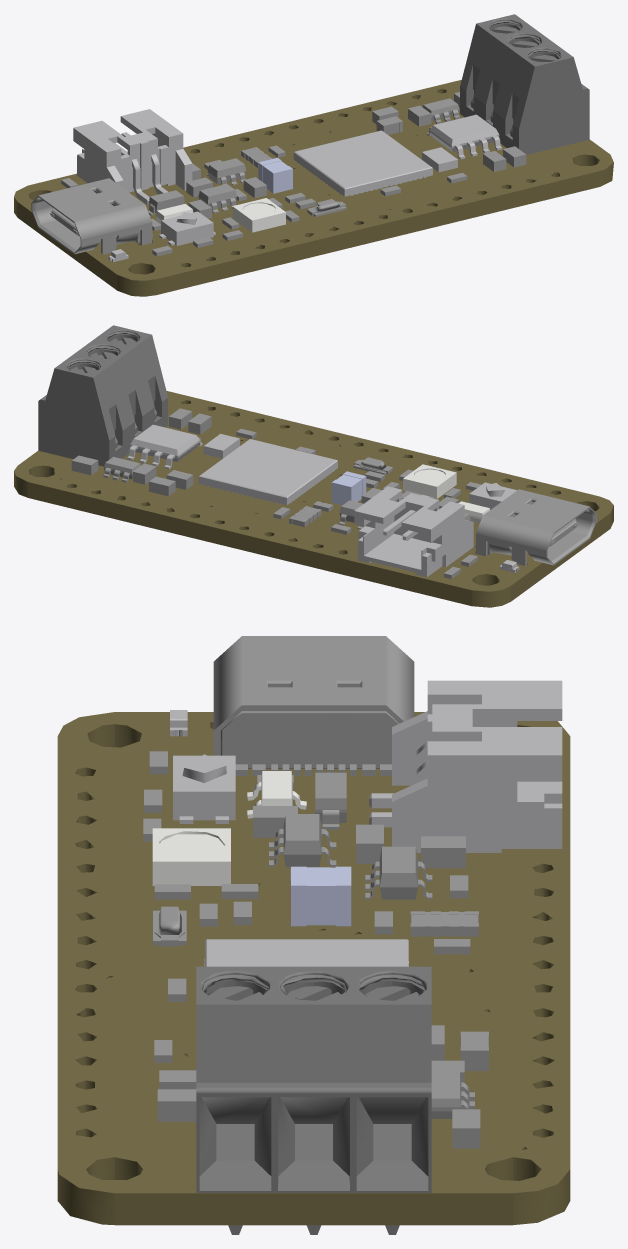
File: ada-4759.glb
3 renders of one model, top to bottom at view 1: azimuth 30°, elevation 25°; view 2: azimuth 150°, elevation 25°; view 3: azimuth 270°, elevation 25°, orthographic. The views are drawn at different scales.
Parts seen in each view (by area): view 1: 0.16666666666666666_0.16666666666666666_0.08333333333333333_, 0.5833333333333334_0.5833333333333334_0.5833333333333334_0.8, 0.3333333333333333_0.3333333333333333_0.3333333333333333_0, 0.25_0.25_0.25_0, 0.9166666666666666_0.9166666666666666_0.9166666666666666_0.8, 0.5833333333333334_0.6666666666666666_0.8333333333333334_0; view 2: 0.16666666666666666_0.16666666666666666_0.08333333333333333_, 0.5833333333333334_0.5833333333333334_0.5833333333333334_0.8, 0.25_0.25_0.25_0, 0.3333333333333333_0.3333333333333333_0.3333333333333333_0, 0.9166666666666666_0.9166666666666666_0.9166666666666666_0.8, 0.5833333333333334_0.6666666666666666_0.8333333333333334_0; view 3: 0.16666666666666666_0.16666666666666666_0.08333333333333333_, 0.25_0.25_0.25_0, 0.3333333333333333_0.3333333333333333_0.3333333333333333_0, 0.5833333333333334_0.5833333333333334_0.5833333333333334_0.8, 0.9166666666666666_0.9166666666666666_0.9166666666666666_0.8, 0.5833333333333334_0.6666666666666666_0.8333333333333334_0.
Boxes of the visible parts, x1=… form: 0.16666666666666666_0.16666666666666666_0.08333333333333333_: x1=14, y1=80, x2=613, y2=296; 0.5833333333333334_0.5833333333333334_0.5833333333333334_0.8: x1=52, y1=109, x2=502, y2=262; 0.3333333333333333_0.3333333333333333_0.3333333333333333_0: x1=31, y1=92, x2=526, y2=256; 0.25_0.25_0.25_0: x1=460, y1=14, x2=589, y2=154; 0.9166666666666666_0.9166666666666666_0.9166666666666666_0.8: x1=156, y1=198, x2=285, y2=232; 0.5833333333333334_0.6666666666666666_0.8333333333333334_0: x1=258, y1=157, x2=292, y2=193; 0.16666666666666666_0.16666666666666666_0.08333333333333333_: x1=14, y1=391, x2=613, y2=607; 0.5833333333333334_0.5833333333333334_0.5833333333333334_0.8: x1=127, y1=424, x2=575, y2=577; 0.25_0.25_0.25_0: x1=38, y1=325, x2=167, y2=466; 0.3333333333333333_0.3333333333333333_0.3333333333333333_0: x1=71, y1=408, x2=596, y2=578; 0.9166666666666666_0.9166666666666666_0.9166666666666666_0.8: x1=403, y1=464, x2=489, y2=522; 0.5833333333333334_0.6666666666666666_0.8333333333333334_0: x1=331, y1=471, x2=366, y2=505; 0.16666666666666666_0.16666666666666666_0.08333333333333333_: x1=57, y1=712, x2=570, y2=1225; 0.25_0.25_0.25_0: x1=196, y1=966, x2=431, y2=1234; 0.3333333333333333_0.3333333333333333_0.3333333333333333_0: x1=143, y1=636, x2=488, y2=1148; 0.5833333333333334_0.5833333333333334_0.5833333333333334_0.8: x1=170, y1=680, x2=562, y2=966; 0.9166666666666666_0.9166666666666666_0.9166666666666666_0.8: x1=152, y1=771, x2=306, y2=885; 0.5833333333333334_0.6666666666666666_0.8333333333333334_0: x1=291, y1=866, x2=351, y2=926.
Bounding box in the file's own units: 5.19 × 1.21 × 2.29.
